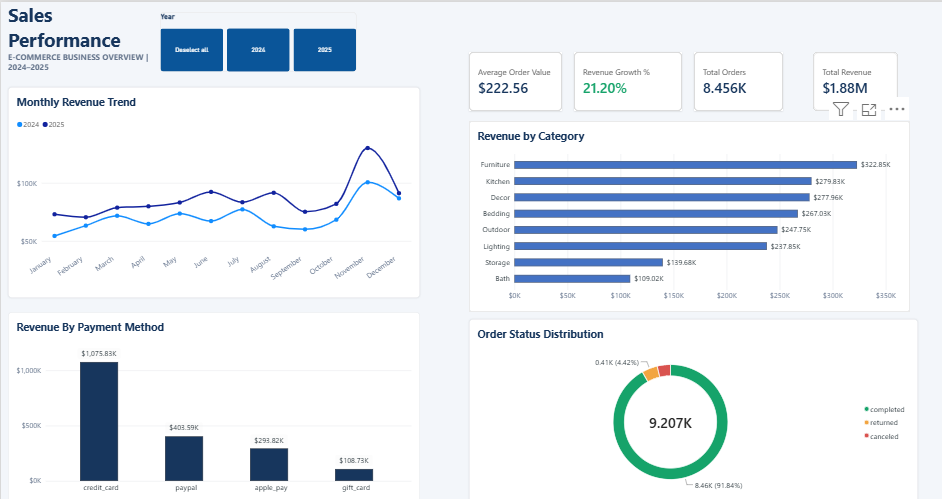

What the dashboard file says about the page in this screenshot:
{"tool":"powerbi","page":{"name":"Page 1","canvas":[1920,1080],"ordinal":0},"visuals":[{"type":"cardVisual","fields":{"Data":["ecommerce_integrated.Total Revenue"]},"box":[1624,100,170,118],"z":0},{"type":"cardVisual","fields":{"Data":["ecommerce_integrated.Total Orders"]},"box":[1386,100,178,118],"z":1000},{"type":"cardVisual","fields":{"Data":["ecommerce_integrated.Average Order Value"]},"box":[936,100,186,118],"z":2000},{"type":"cardVisual","fields":{"Data":["ecommerce_integrated.Revenue Growth %"]},"box":[1146,100,216,118],"z":3000},{"type":"lineChart","title":"Monthly Revenue Trend","fields":{"Category":["ecommerce_integrated.order_date.Variation.Date Hierarchy.Month"],"Series":["ecommerce_integrated.year_month.Variation.Date Hierarchy.Year"],"Y":["ecommerce_integrated.Total Revenue"]},"box":[14,170,824,422],"z":4000},{"type":"clusteredBarChart","title":"Revenue by Category","fields":{"Category":["ecommerce_integrated.category"],"Y":["ecommerce_integrated.Total Revenue"]},"box":[936,238,882,382],"z":5000},{"type":"donutChart","title":"Order Status Distribution","fields":{"Category":["ecommerce_integrated.status"],"Y":["Count(ecommerce_integrated.order_id)"]},"box":[936,634,898,370],"z":6000},{"type":"clusteredColumnChart","title":" Revenue By Payment Method","fields":{"Category":["ecommerce_integrated.payment_method"],"Y":["ecommerce_integrated.Total Revenue"]},"box":[14,620,824,384],"z":7000},{"type":"advancedSlicerVisual","fields":{"Values":["ecommerce_integrated.order_date.Variation.Date Hierarchy.Year"]},"box":[318,20,393.3,120],"z":8000},{"type":"textbox","box":[14,0,304,382],"z":9000}]}

Visuals, with their boxes on the page's 1920x1080 design canvas (x1, y1, x2, y2). These are canvas units, not pixel positions in the 942x499 screenshot, which may show the page scaled, cropped or inside an application window:
cardVisual - ecommerce_integrated.Total Revenue: 1624, 100, 1794, 218
cardVisual - ecommerce_integrated.Total Orders: 1386, 100, 1564, 218
cardVisual - ecommerce_integrated.Average Order Value: 936, 100, 1122, 218
cardVisual - ecommerce_integrated.Revenue Growth %: 1146, 100, 1362, 218
"Monthly Revenue Trend" lineChart: 14, 170, 838, 592
"Revenue by Category" clusteredBarChart: 936, 238, 1818, 620
"Order Status Distribution" donutChart: 936, 634, 1834, 1004
" Revenue By Payment Method" clusteredColumnChart: 14, 620, 838, 1004
advancedSlicerVisual - ecommerce_integrated.order_date.Variation.Date Hierarchy.Year: 318, 20, 711, 140
textbox: 14, 0, 318, 382
